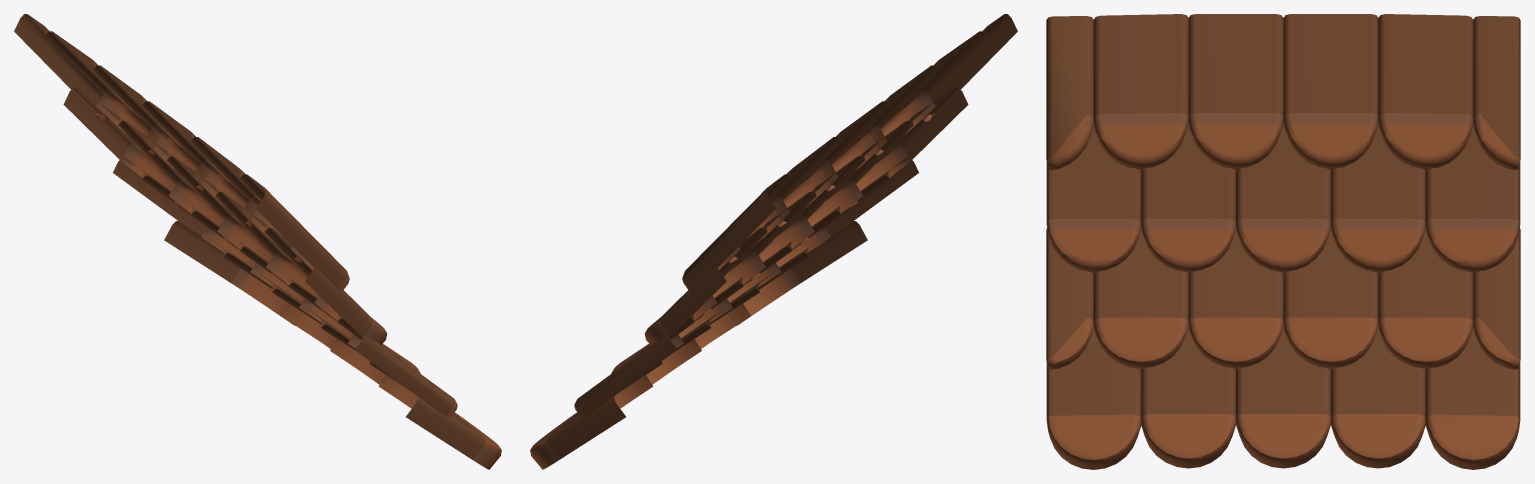
The model's file is telhado_natal_telhas_chocolate_pacote.glb.
3 renders of one model, left to right at view 1: azimuth 30°, elevation 25°; view 2: azimuth 150°, elevation 25°; view 3: azimuth 270°, elevation 25°, orthographic. The views are drawn at different scales.
Visible parts, largest first — view 1: colisao_malha; view 2: colisao_malha; view 3: colisao_malha.
Part boxes in pixels (x1,y1,x2,y2): colisao_malha: [14, 14, 501, 469]; colisao_malha: [530, 14, 1017, 469]; colisao_malha: [1046, 14, 1520, 469].
Size of the model in its own units: 3.4 by 4.34 by 5.45.
Materials: 1 (1 with a texture image).
